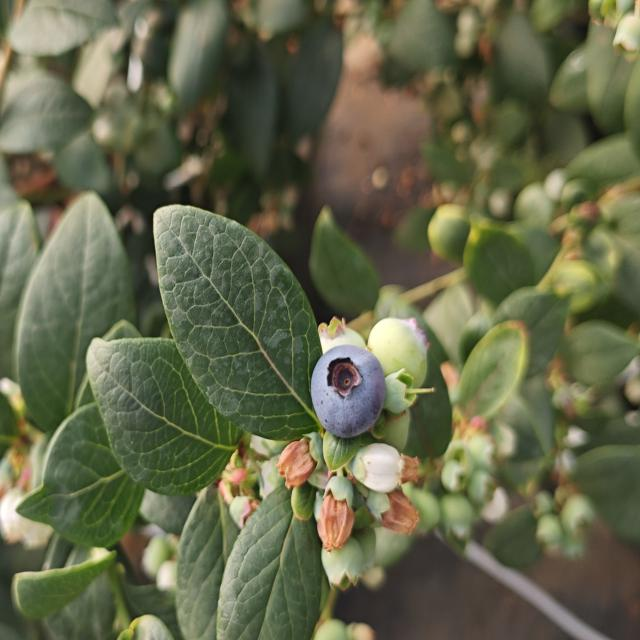ripe: (309, 337, 391, 438)
